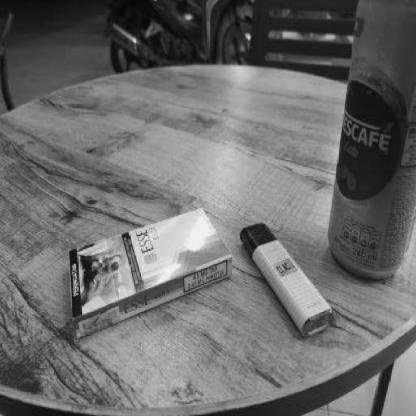objects: (69, 209, 233, 338)
